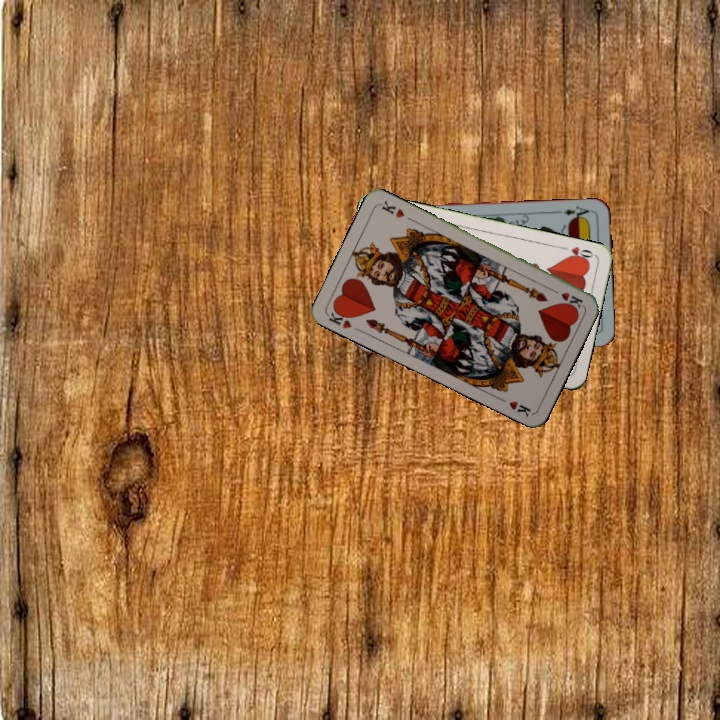EA: (559, 202, 595, 222)
HK: (547, 284, 585, 310), (324, 304, 355, 331)
HO: (557, 242, 597, 264)
